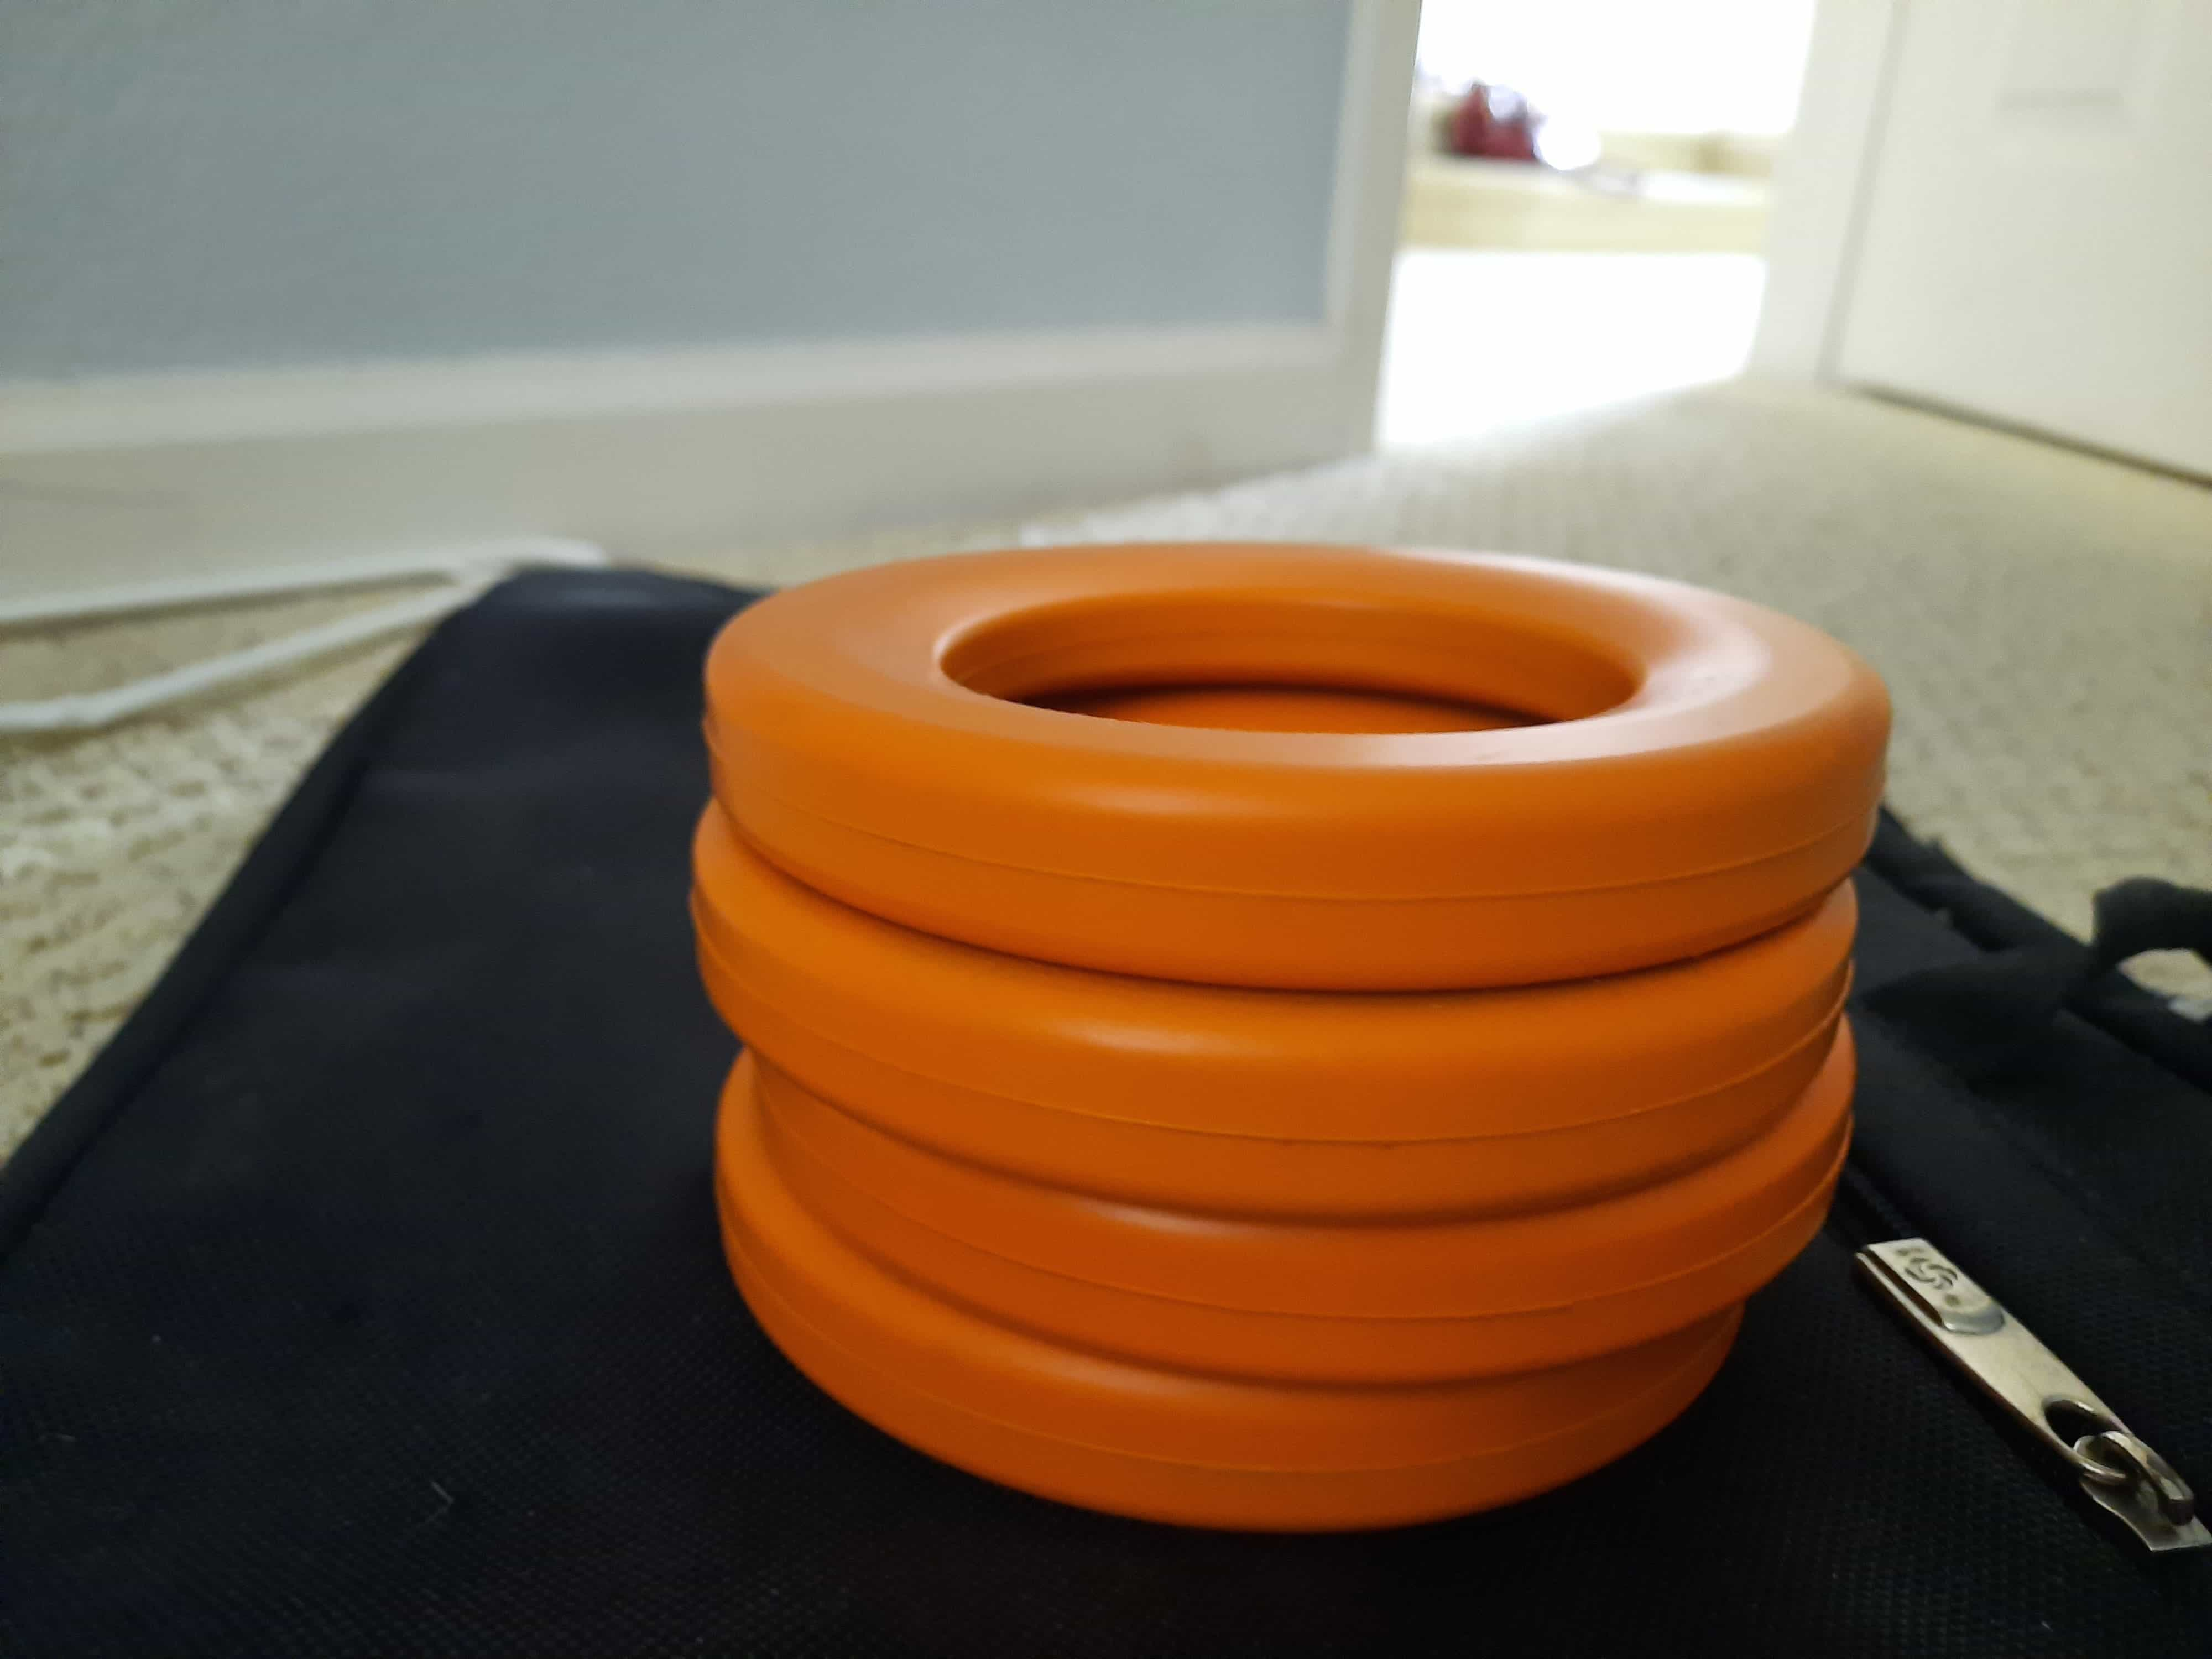FourStack: (700, 544, 1860, 1521)
